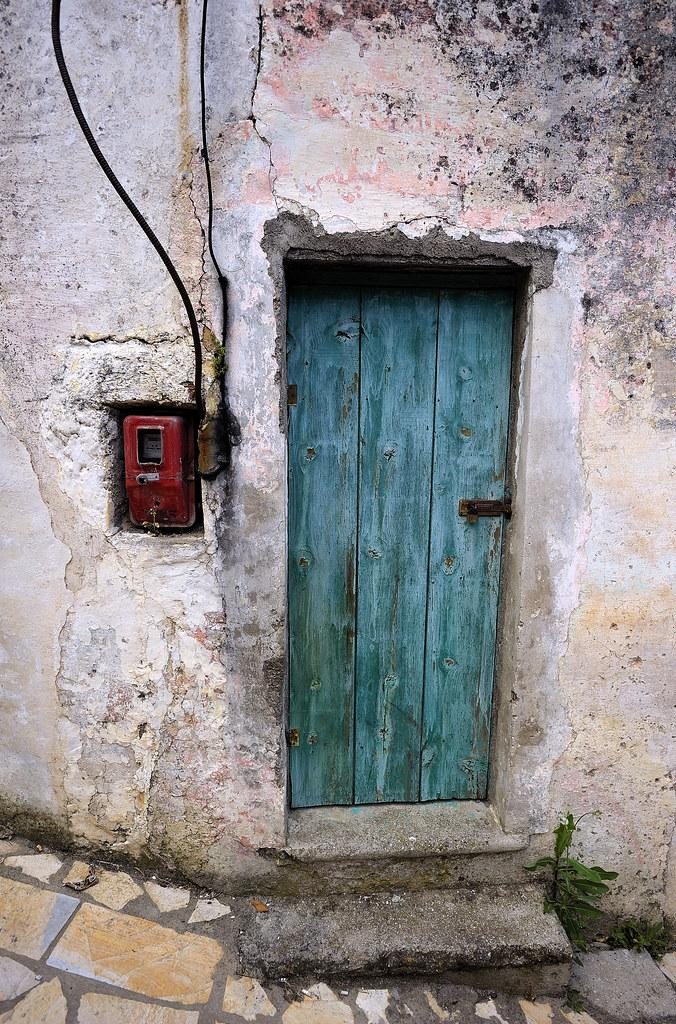door: (285, 264, 518, 809)
